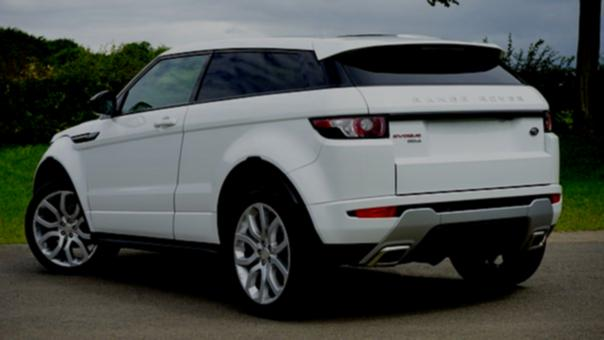range rover: (404, 87, 532, 115)
